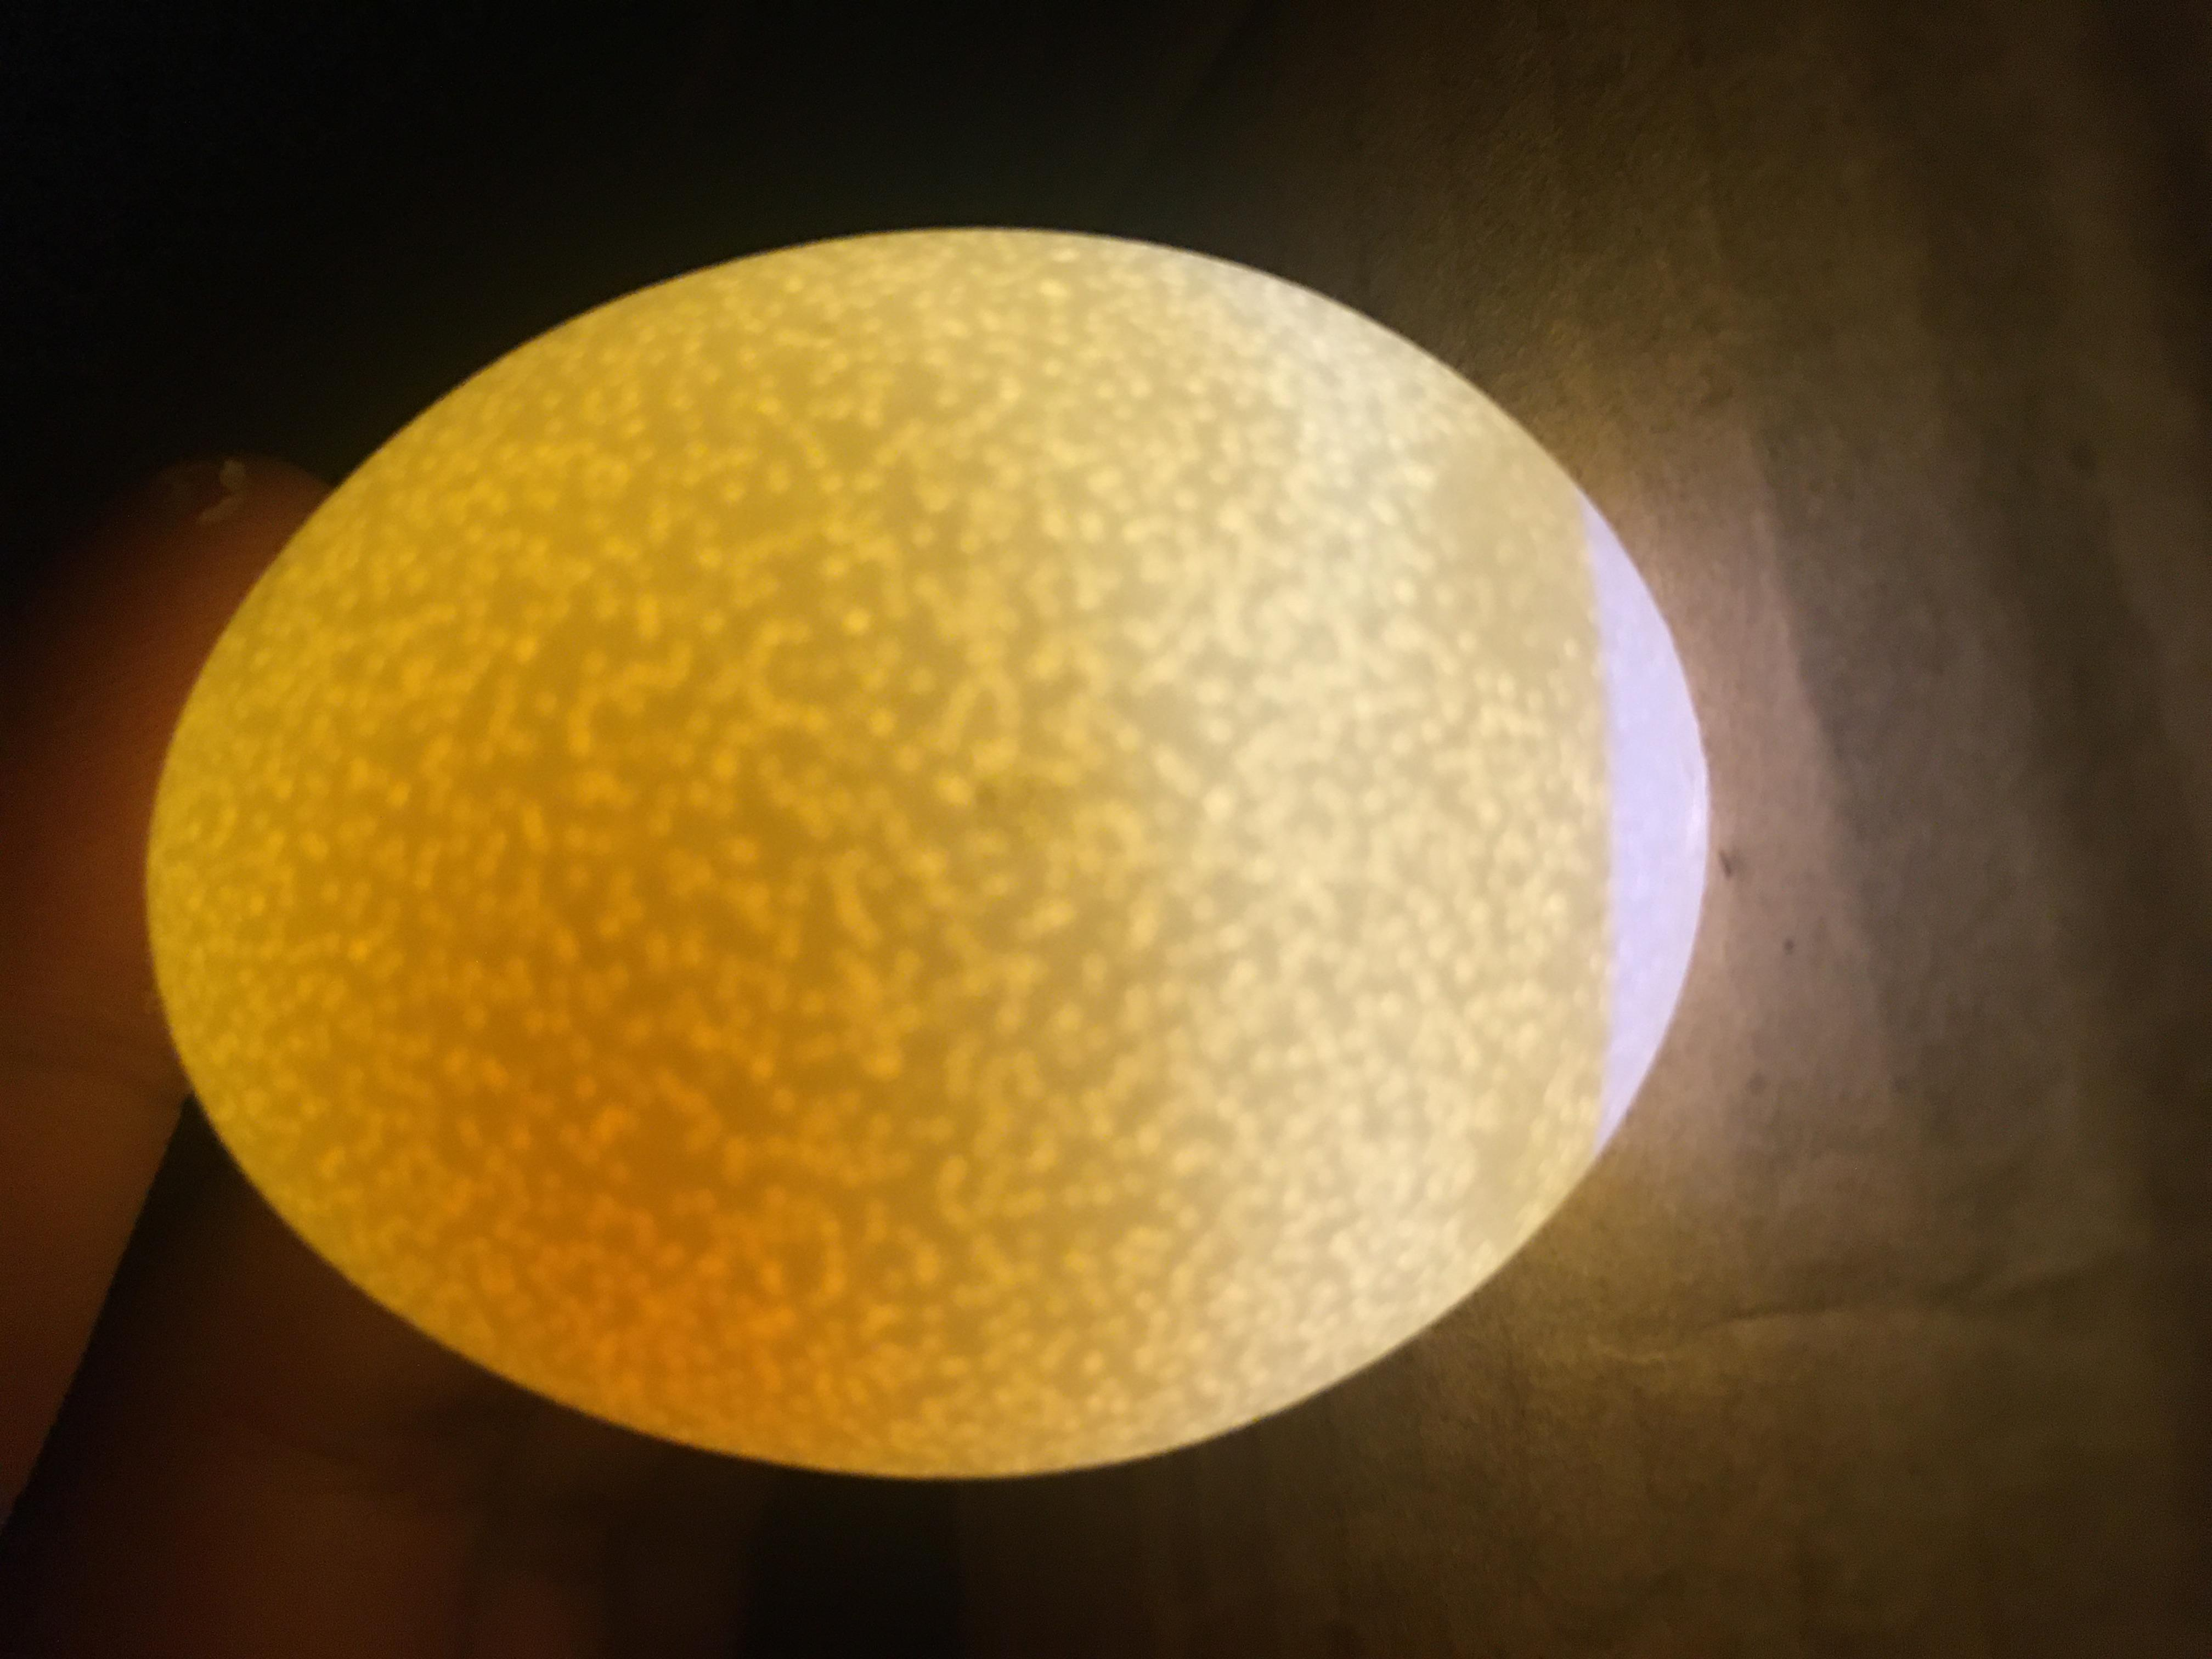A - Good: (200, 87, 1909, 1324)
